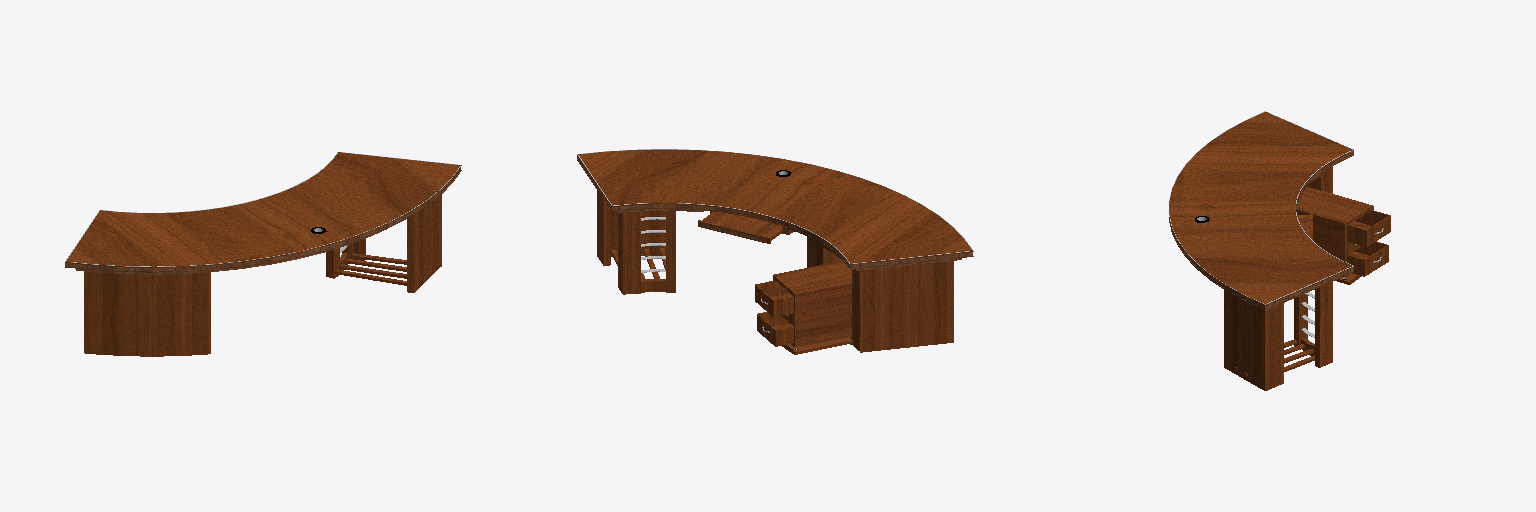
3 renders of one model, left to right at view 1: azimuth 30°, elevation 25°; view 2: azimuth 150°, elevation 25°; view 3: azimuth 270°, elevation 25°, orthographic.
Parts seen in each view (by area): view 1: table Main pCube1 polySurface34 polySurface6 polySurface1, table Main polySurface2 pCube1 polySurface12 polySurface8 polySu, table Main polySurface2 pCube1 polySurface5, polySurface36; view 2: table Main pCube1 polySurface34 polySurface6 polySurface1, table Main polySurface2 pCube1 polySurface12 polySurface8 polySu, Main Table_handel polySurface20 pCube2 Mouse_Table, table Main polySurface2 pCube1 polySurface5, table Main polySurface4 polySurface2 pCube1, Main pCube9 Keybord_pad, Main Table_handel Drower_1 polySurface30, Main Table_handel Drower_2 polySurface22, table Main polySurface23 pCube4; view 3: table Main pCube1 polySurface34 polySurface6 polySurface1, table Main polySurface2 pCube1 polySurface5, Main Table_handel polySurface20 pCube2 Mouse_Table, table Main polySurface4 polySurface2 pCube1, Main Table_handel Drower_1 polySurface30, Main Table_handel Drower_2 polySurface22, table Main polySurface23 pCube4.
Boxes of the visible parts, <box> form: table Main pCube1 polySurface34 polySurface6 polySurface1: <box>65,152,461,272</box>; table Main polySurface2 pCube1 polySurface12 polySurface8 polySu: <box>84,271,210,356</box>; table Main polySurface2 pCube1 polySurface5: <box>407,195,441,292</box>; polySurface36: <box>76,229,386,274</box>; table Main pCube1 polySurface34 polySurface6 polySurface1: <box>577,150,973,269</box>; table Main polySurface2 pCube1 polySurface12 polySurface8 polySu: <box>807,237,953,352</box>; Main Table_handel polySurface20 pCube2 Mouse_Table: <box>773,261,851,347</box>; table Main polySurface2 pCube1 polySurface5: <box>597,190,665,265</box>; table Main polySurface4 polySurface2 pCube1: <box>618,212,640,294</box>; Main pCube9 Keybord_pad: <box>698,212,782,243</box>; Main Table_handel Drower_1 polySurface30: <box>755,280,793,317</box>; Main Table_handel Drower_2 polySurface22: <box>757,312,793,346</box>; table Main polySurface23 pCube4: <box>666,211,675,292</box>; table Main pCube1 polySurface34 polySurface6 polySurface1: <box>1169,112,1353,309</box>; table Main polySurface2 pCube1 polySurface5: <box>1224,290,1283,390</box>; Main Table_handel polySurface20 pCube2 Mouse_Table: <box>1296,187,1373,276</box>; table Main polySurface4 polySurface2 pCube1: <box>1315,282,1332,367</box>; Main Table_handel Drower_1 polySurface30: <box>1347,210,1390,246</box>; Main Table_handel Drower_2 polySurface22: <box>1347,241,1388,276</box>; table Main polySurface23 pCube4: <box>1294,294,1307,345</box>.
Size of the model in its own units: 89.67 by 21 by 43.52.
Materials: 7 (2 with a texture image).